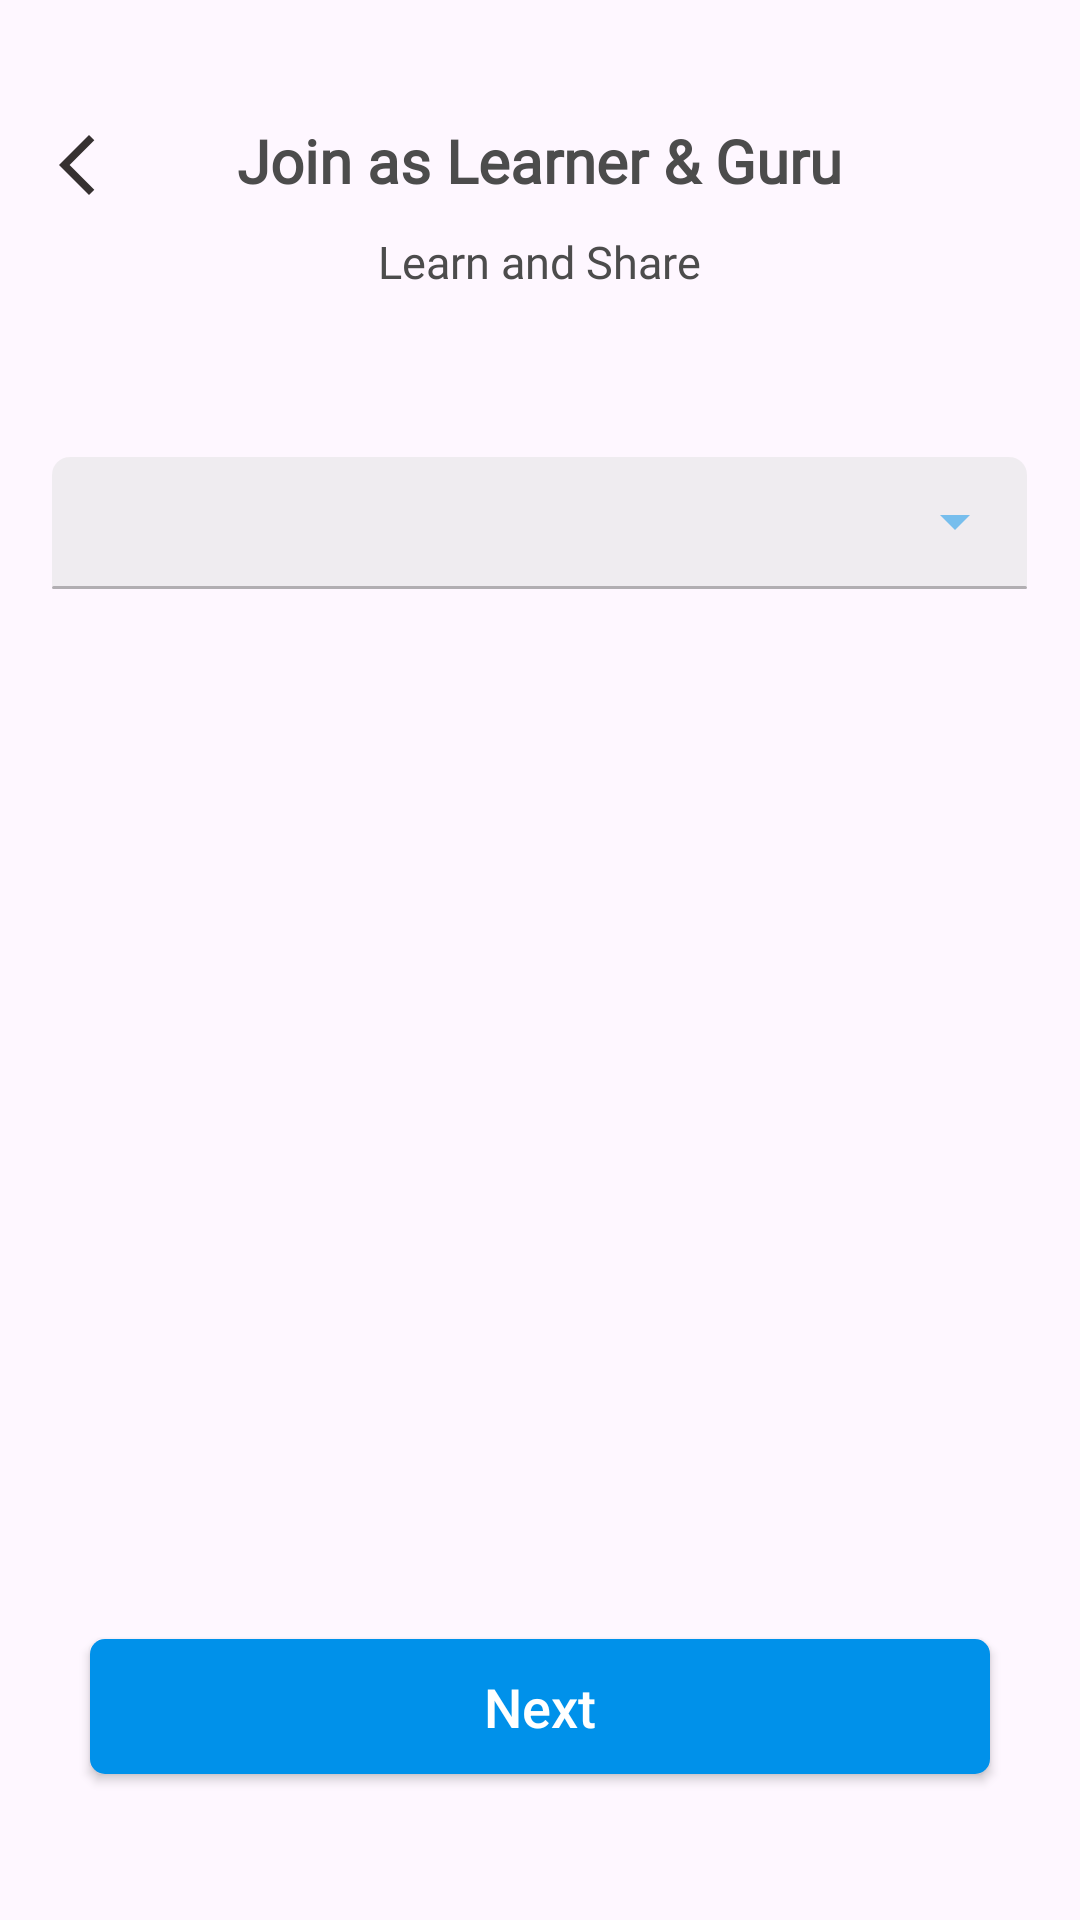

Icons on this 1080x1920 Android screen, each with the point to tap as point (x, y):
Back Icon: point (76, 165)
